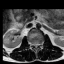CCS_normal: (35, 40, 37, 50)
LFS_normal: (39, 40, 41, 47)
LLS_normal: (37, 40, 39, 48)
RFS_normal: (31, 40, 33, 47)
RLS_normal: (33, 40, 35, 48)
